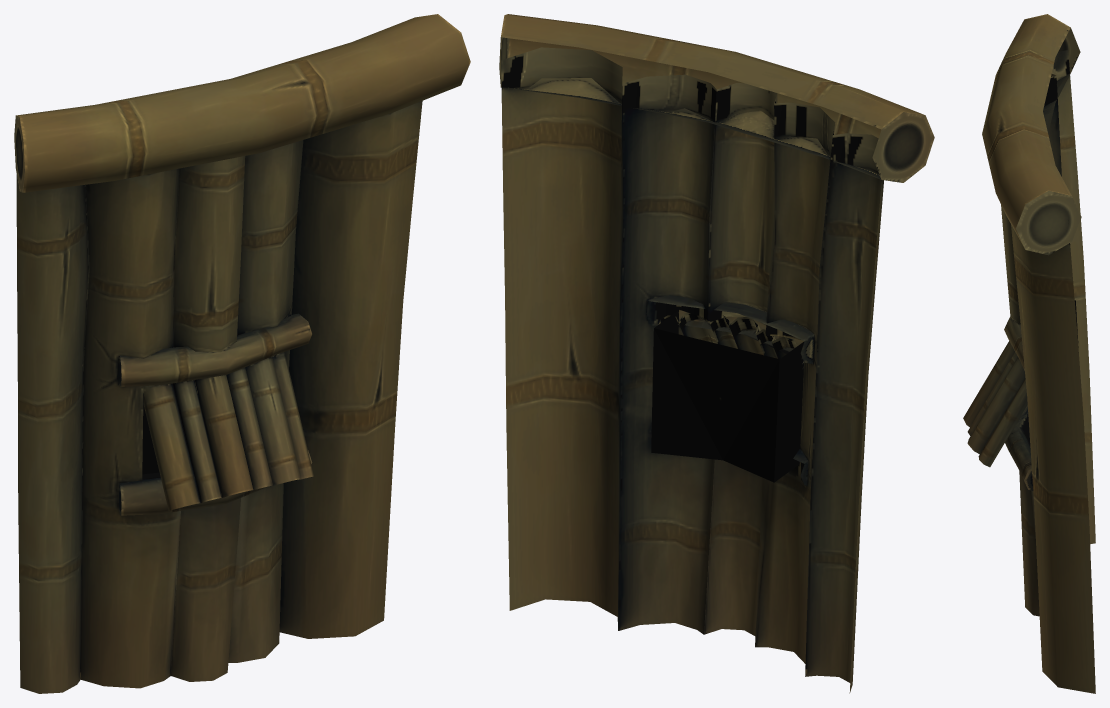
File: bamboo_house_window.FBX
3 renders of one model, left to right at view 1: azimuth 30°, elevation 25°; view 2: azimuth 150°, elevation 25°; view 3: azimuth 270°, elevation 25°, orthographic. The views are drawn at different scales.
Parts seen in each view (by area): view 1: bamboo_house_window; view 2: bamboo_house_window; view 3: bamboo_house_window.
Part boxes in pixels (x1=…): bamboo_house_window: x1=14, y1=14, x2=470, y2=693; bamboo_house_window: x1=499, y1=14, x2=934, y2=693; bamboo_house_window: x1=963, y1=14, x2=1095, y2=693.
Bounding box in the file's own units: 287 × 368 × 85.58.
